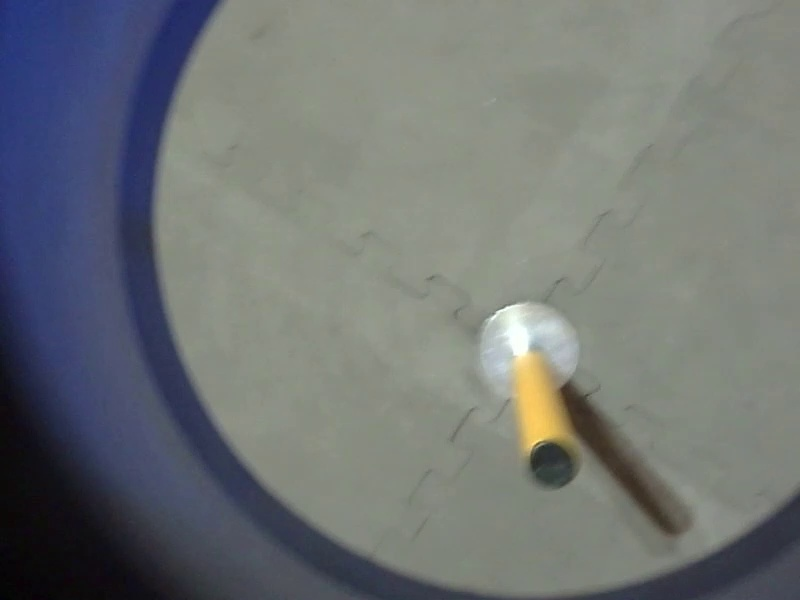tip: (150, 244, 245, 336)
